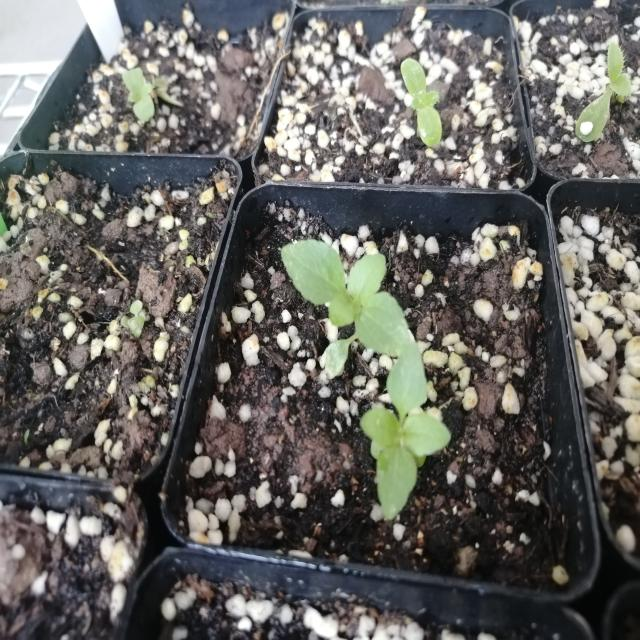billygoat_weed: (276, 219, 419, 381), (369, 334, 455, 522)
